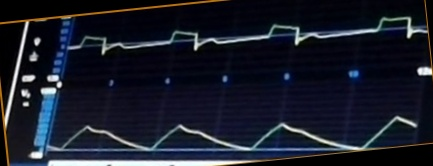Premature_cycling Flow: (72, 16, 426, 61)
Premature_cycling Volume: (54, 111, 417, 156)
